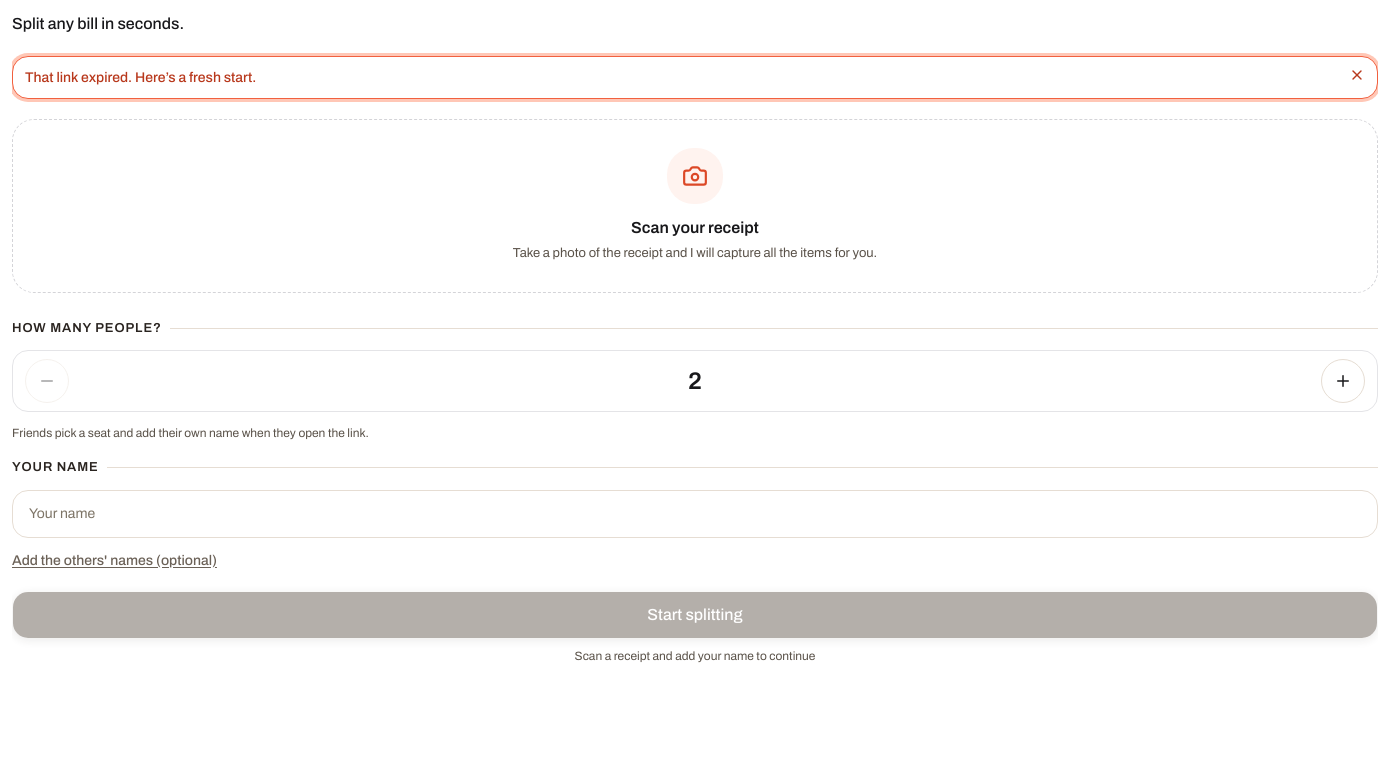
Test: SetupStep — G3 expired-link landing notice › the expired notice is dismissible
Click the button named "dismiss".
click(1357, 75)  # box [1349, 67, 1365, 83]
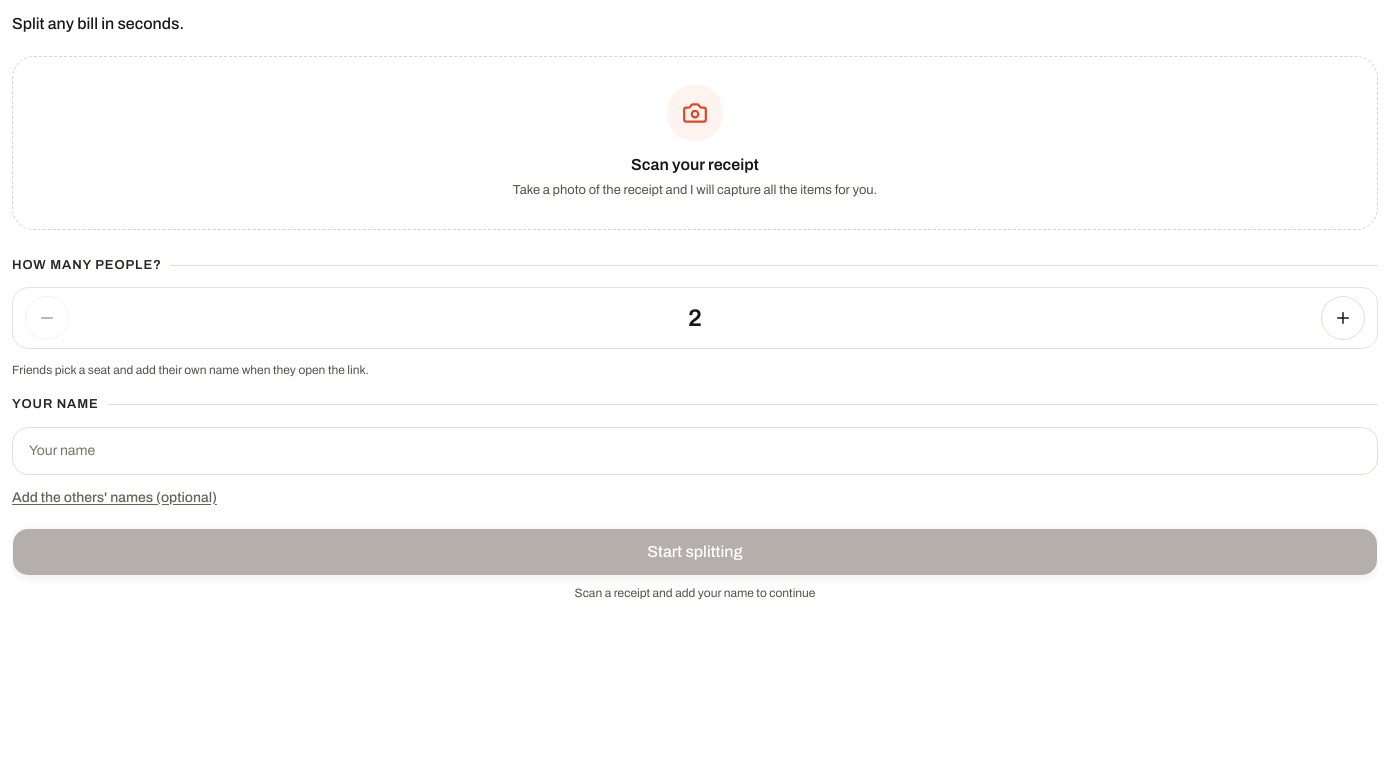
Check: the message with test id "expired-notice" is gone
